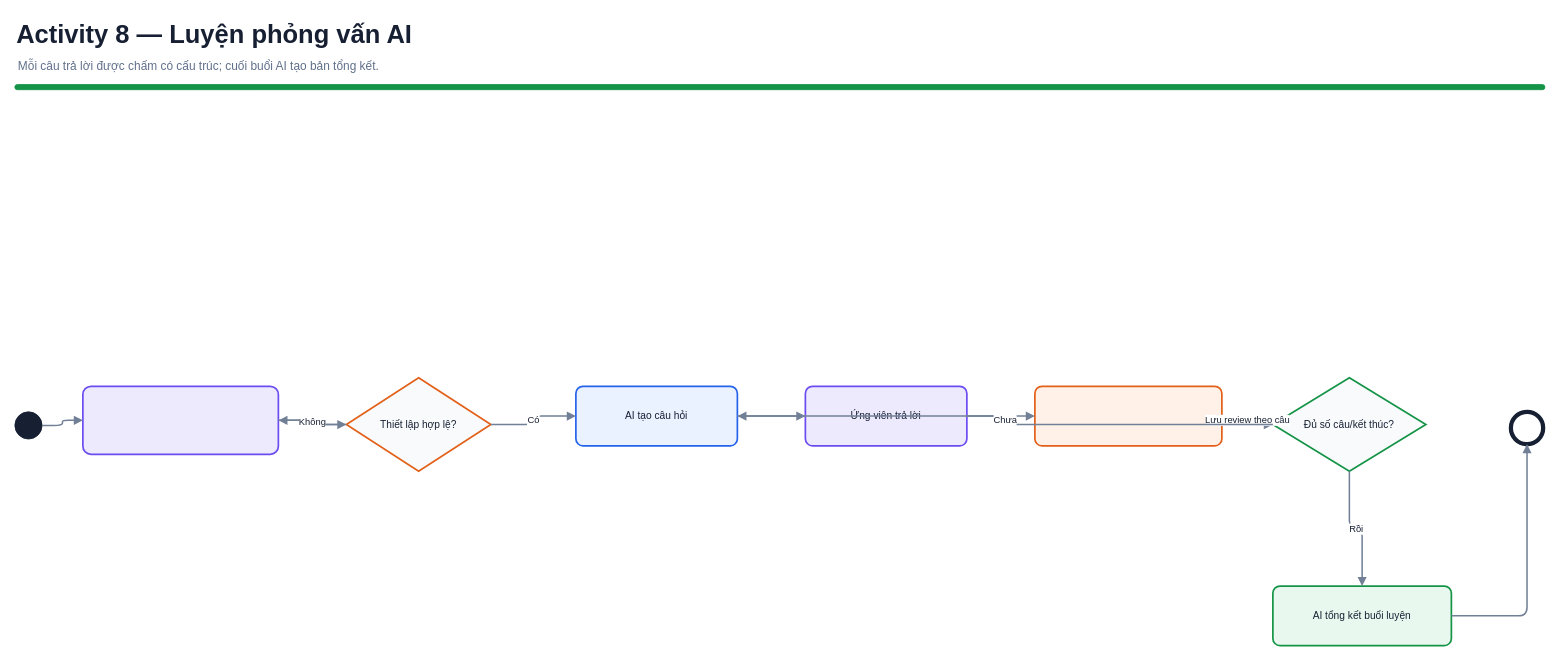
Image size: 1560x660. Some labels were removed from this diagram. Each missing label, with the centre of its shape:
"AI chấm điểm và phản hồi" belongs at pixel 1128 415.
"Nhập vị trí/cấp độ/số câu" belongs at pixel 180 420.
